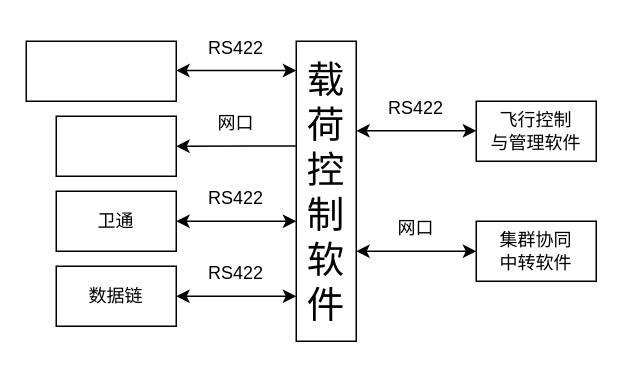
Some shapes in this 623 by 368 pixel diagram are drawn without their labels. Each missing label, with the box of its shape:
前视摄像头 通信侦察干扰载荷: (25, 40, 176, 101)
巡飞弹: (55, 115, 176, 176)
